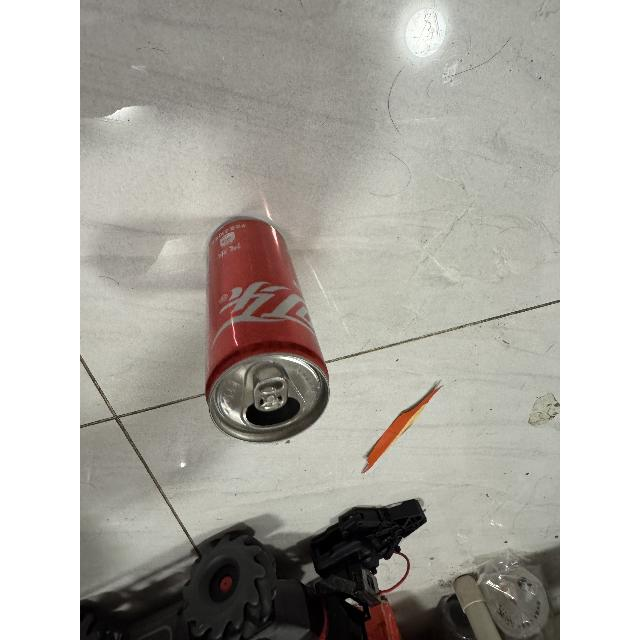coca-cola: (197, 213, 337, 449)
